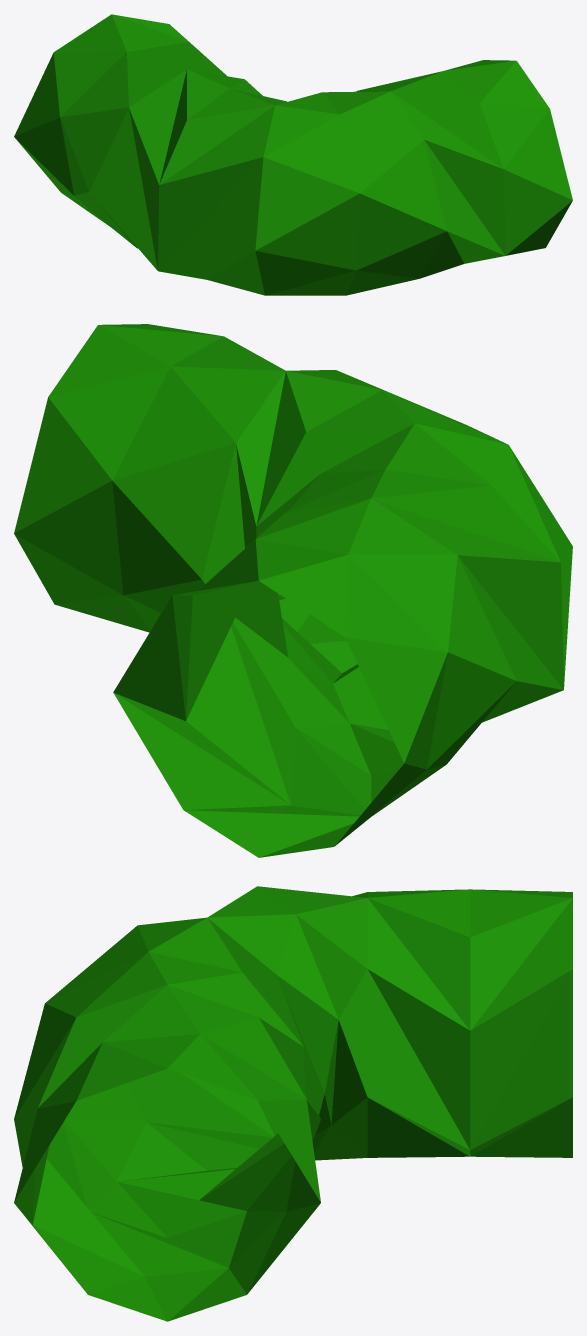
The model's file is Snake_angle.glb.
3 renders of one model, top to bottom at view 1: azimuth 30°, elevation 25°; view 2: azimuth 150°, elevation 25°; view 3: azimuth 270°, elevation 25°, orthographic. The views are drawn at different scales.
Visible parts, largest first — view 1: Snake_angle; view 2: Snake_angle; view 3: Snake_angle.
Part boxes in pixels (bbox=[...]): Snake_angle: bbox=[14, 14, 572, 295]; Snake_angle: bbox=[14, 324, 572, 857]; Snake_angle: bbox=[14, 886, 572, 1321].
Size of the model in its own units: 1.37 by 0.6861 by 1.37.
